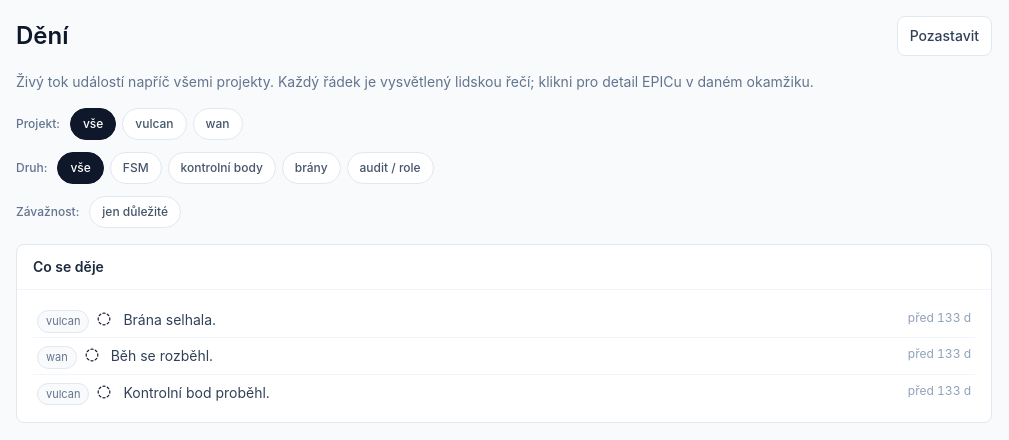
ScreenD — merged live activity stream › event-kind filter (FSM·CP·gate·audit) narrows by kind
expect the list is shown: met, box 33,302 -> 975,410
# gate-only → just the gate_complete row.
Click the button "brány". click: (311, 168)
box: 282,152 -> 341,184
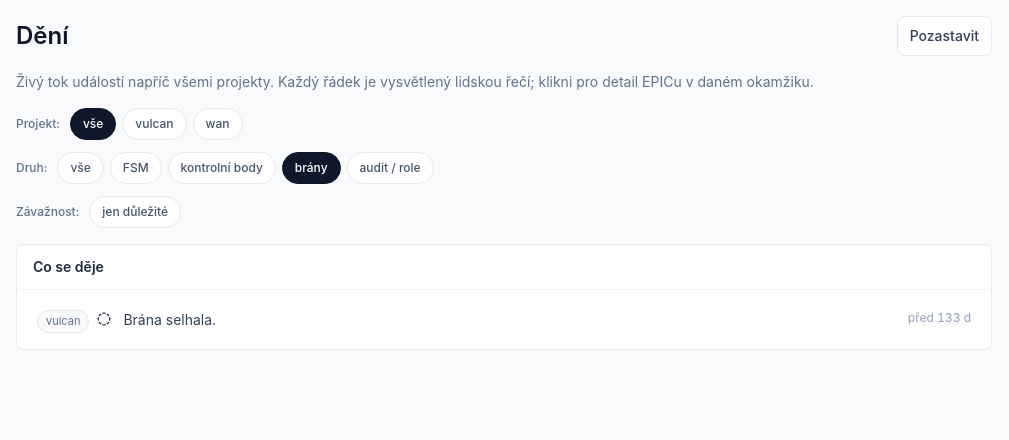
expect the list shows "Brána selhala.": met, box 33,302 -> 975,337
expect the number of links is 1: met, box 33,302 -> 975,337
# fsm-only → just the transition row.
Click the button "brány". click: (311, 168)
box: 282,152 -> 341,184
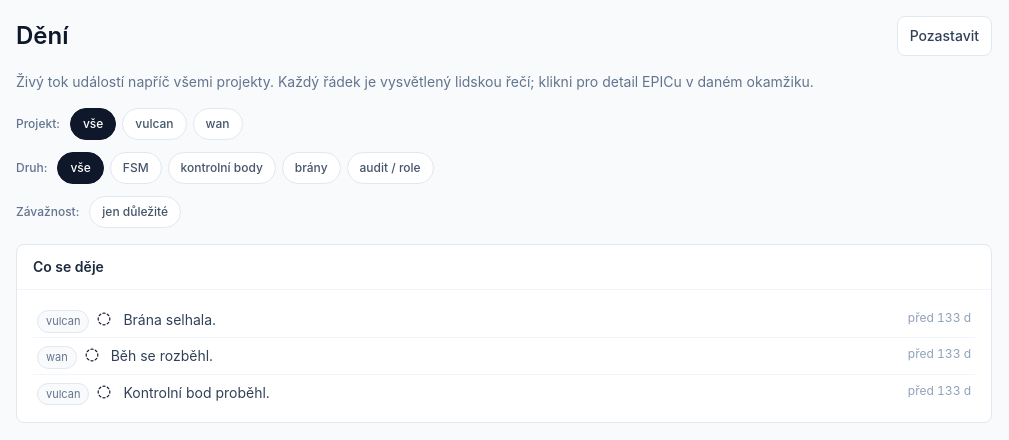
Click the button "FSM". click: (136, 168)
box: 110,152 -> 162,184
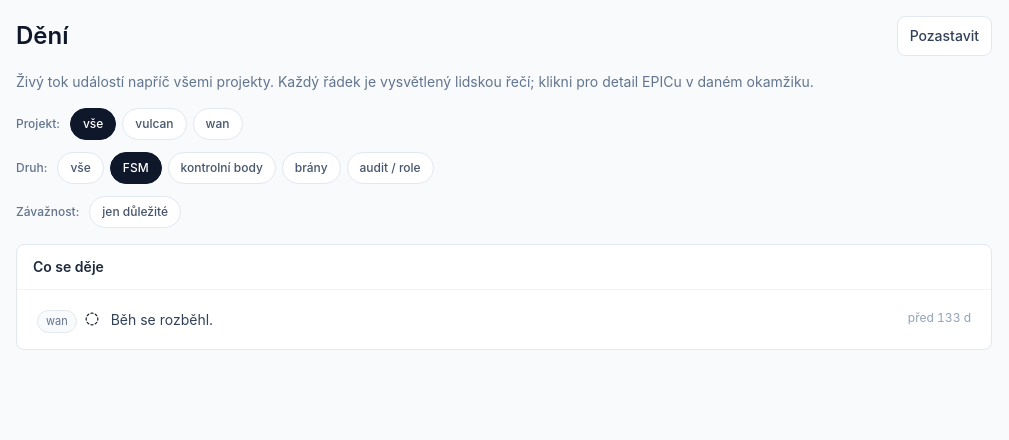
expect the list shows "Běh se rozběhl.": met, box 33,302 -> 975,337
expect the list no longer shows "Brána selhala.": met, box 33,302 -> 975,337
